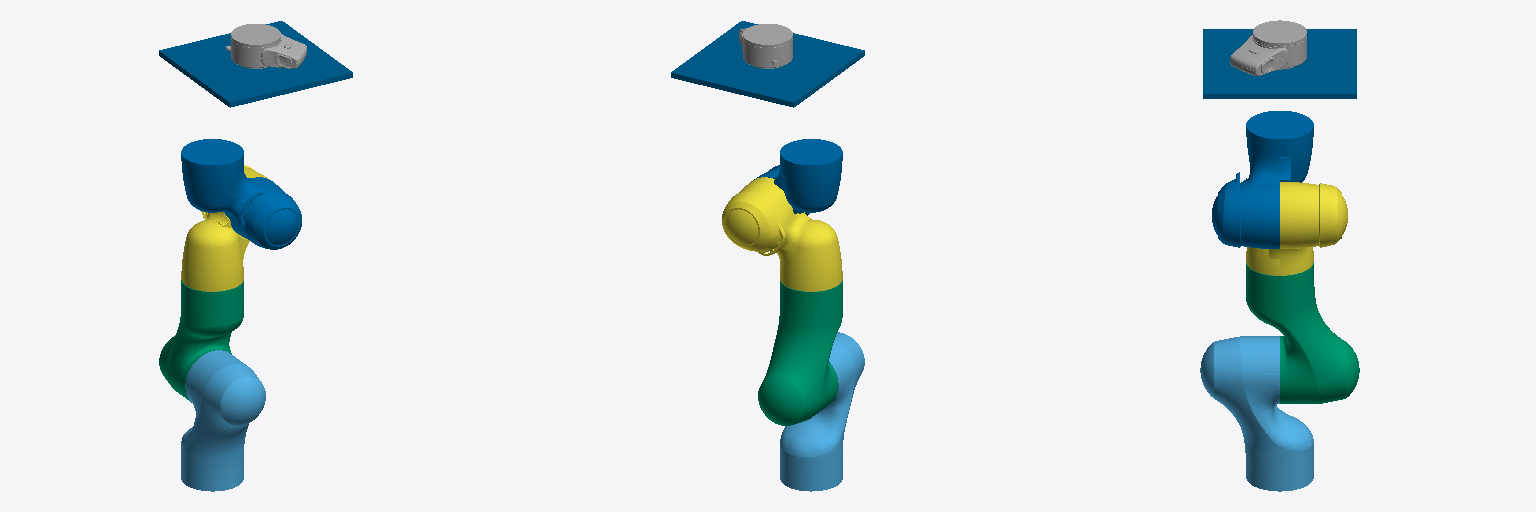
robot.urdf — panda:
<?xml version="1.0" ?>
<robot name="panda">
  <link name="panda_link0">
    <visual>
      <origin rpy="1.57079632679 0 0" xyz="0 0 0"/>
      <geometry>
        <mesh filename="../urdf/panda/meshes/link0.obj"/>
      </geometry>
    </visual>
    <inertial>
      <origin rpy="1.57079632679 0 0" xyz="0 0 0"/>
      <mass value="0.1" />
      <inertia ixx="0.03" iyy="0.03" izz="0.03" ixy="0.0" ixz="0.0" iyz="0.0" />
    </inertial>
  </link>
  <link name="panda_link1">
    <visual>
      <geometry>
        <mesh filename="../urdf/panda/meshes/link1.obj"/>
      </geometry>
    </visual>
    <inertial>
      <mass value="0.1" />
      <inertia ixx="0.03" iyy="0.03" izz="0.03" ixy="0.0" ixz="0.0" iyz="0.0" />
    </inertial>
  </link>
  <joint name="panda_joint1" type="revolute">
    <origin rpy="1.57079632679 0 0" xyz="0 0 0.333"/>
    <parent link="panda_link0"/>
    <child link="panda_link1"/>
    <axis xyz="0 1 0"/>
  </joint>
  <link name="panda_link2">
    <visual>
      <geometry>
        <mesh filename="../urdf/panda/meshes/link2.obj"/>
      </geometry>
    </visual>
    <inertial>
      <mass value="0.1" />
      <inertia ixx="0.03" iyy="0.03" izz="0.03" ixy="0.0" ixz="0.0" iyz="0.0" />
    </inertial>
  </link>
  <joint name="panda_joint2" type="revolute">
    <origin rpy="-1.57079632679 0 0" xyz="0 0 0"/>
    <parent link="panda_link1"/>
    <child link="panda_link2"/>
    <axis xyz="0 1 0"/>
  </joint>
  <link name="panda_link3">
    <visual>
      <geometry>
        <mesh filename="../urdf/panda/meshes/link3.obj"/>
      </geometry>
    </visual>
    <inertial>
      <mass value="0.1" />
      <inertia ixx="0.03" iyy="0.03" izz="0.03" ixy="0.0" ixz="0.0" iyz="0.0" />
    </inertial>
  </link>
  <joint name="panda_joint3" type="revolute">
    <origin rpy="1.57079632679 0 0" xyz="0 0 0.316"/>
    <parent link="panda_link2"/>
    <child link="panda_link3"/>
    <axis xyz="0 1 0"/>
  </joint>
  <link name="panda_link4">
    <visual>
      <geometry>
        <mesh filename="../urdf/panda/meshes/link4.obj"/>
      </geometry>
    </visual>
    <inertial>
      <mass value="0.1" />
      <inertia ixx="0.03" iyy="0.03" izz="0.03" ixy="0.0" ixz="0.0" iyz="0.0" />
    </inertial>
  </link>
  <joint name="panda_joint4" type="revolute">
    <origin rpy="1.57079632679 0 0" xyz="0.0825 0 0"/>
    <parent link="panda_link3"/>
    <child link="panda_link4"/>
    <axis xyz="0 1 0"/>
  </joint>
  <link name="panda_link5">
    <visual>
      <geometry>
        <mesh filename="../urdf/panda/meshes/link5.obj"/>
      </geometry>
    </visual>
    <inertial>
      <mass value="0.1" />
      <inertia ixx="0.03" iyy="0.03" izz="0.03" ixy="0.0" ixz="0.0" iyz="0.0" />
    </inertial>
  </link>
  <joint name="panda_joint5" type="revolute">
    <origin rpy="-1.57079632679 0 0" xyz="-0.0825 0 -0.384"/>
    <parent link="panda_link4"/>
    <child link="panda_link5"/>
    <axis xyz="0 1 0"/>
  </joint>
  <link name="panda_link6">
    <visual>
      <geometry>
        <mesh filename="../urdf/panda/meshes/link6.obj"/>
      </geometry>
    </visual>
    <inertial>
      <mass value="0.1" />
      <inertia ixx="0.03" iyy="0.03" izz="0.03" ixy="0.0" ixz="0.0" iyz="0.0" />
    </inertial>
  </link>
  <joint name="panda_joint6" type="revolute">
    <origin rpy="1.57079632679 0 0" xyz="0 0 0"/>
    <parent link="panda_link5"/>
    <child link="panda_link6"/>
    <axis xyz="0 1 0"/>
  </joint>
  <link name="panda_link7">
    <visual>
      <geometry>
        <mesh filename="../urdf/panda/meshes/link7.obj"/>
      </geometry>
    </visual>
    <inertial>
      <mass value="0.1" />
      <inertia ixx="0.03" iyy="0.03" izz="0.03" ixy="0.0" ixz="0.0" iyz="0.0" />
    </inertial>
  </link>
  <joint name="panda_joint7" type="revolute">
    <origin rpy="1.57079632679 0 0" xyz="0.088 0 0"/>
    <parent link="panda_link6"/>
    <child link="panda_link7"/>
    <axis xyz="0 1 0"/>
  </joint>
  <link name="panda_link8">
    <visual>
      <geometry>
        <box size=".25 .25 .01"/>
      </geometry>
      <material name="blue">
        <color rgba="0 0.4 .6 1."/>
      </material>
    </visual>
    <inertial>
      <mass value="0.1" />
      <inertia ixx="0.03" iyy="0.03" izz="0.03" ixy="0.0" ixz="0.0" iyz="0.0" />
    </inertial>
  </link>
  <joint name="panda_joint8" type="fixed">
    <origin rpy="1.57079632679 0 0" xyz="0 0.11 0"/>
    <parent link="panda_link7"/>
    <child link="panda_link8"/>
  </joint>
</robot>

--- What the picture shows (computed from the rendered views, not written in the file) ---
Views: 3 orthographic renders of the robot side by side, from view 1: azimuth 30°, elevation 25°; view 2: azimuth 150°, elevation 25°; view 3: azimuth 270°, elevation 25°.
Robot: panda — 9 links, 8 joints (7 revolute, 1 fixed); root link panda_link0; default pose: every joint at zero.
Visible links, largest first — view 1: panda_link1, panda_link4, panda_link8, panda_link2, panda_link3, panda_link7; view 2: panda_link2, panda_link3, panda_link8, panda_link1, panda_link4, panda_link7; view 3: panda_link1, panda_link2, panda_link4, panda_link8, panda_link3, panda_link7.
Link boxes in pixels (x1=…): panda_link1: x1=181, y1=350, x2=265, y2=491; panda_link4: x1=181, y1=139, x2=301, y2=249; panda_link8: x1=159, y1=21, x2=352, y2=107; panda_link2: x1=159, y1=280, x2=243, y2=402; panda_link3: x1=181, y1=165, x2=269, y2=291; panda_link7: x1=226, y1=24, x2=306, y2=68; panda_link2: x1=758, y1=280, x2=842, y2=425; panda_link3: x1=722, y1=177, x2=842, y2=291; panda_link8: x1=671, y1=21, x2=864, y2=107; panda_link1: x1=780, y1=332, x2=864, y2=491; panda_link4: x1=754, y1=139, x2=842, y2=215; panda_link7: x1=739, y1=24, x2=792, y2=68; panda_link1: x1=1200, y1=336, x2=1313, y2=491; panda_link2: x1=1246, y1=263, x2=1359, y2=403; panda_link4: x1=1212, y1=111, x2=1313, y2=248; panda_link8: x1=1203, y1=29, x2=1356, y2=98; panda_link3: x1=1246, y1=182, x2=1347, y2=275; panda_link7: x1=1230, y1=20, x2=1306, y2=75.
Bounding box of the posed robot: 0.268 × 0.2588 × 0.84 m (x, y, z).
Meshes: 8 distinct files referenced, 5 mesh visuals loaded (5 OBJ); not drawn: 3 (reference not matched to a file when rendering).